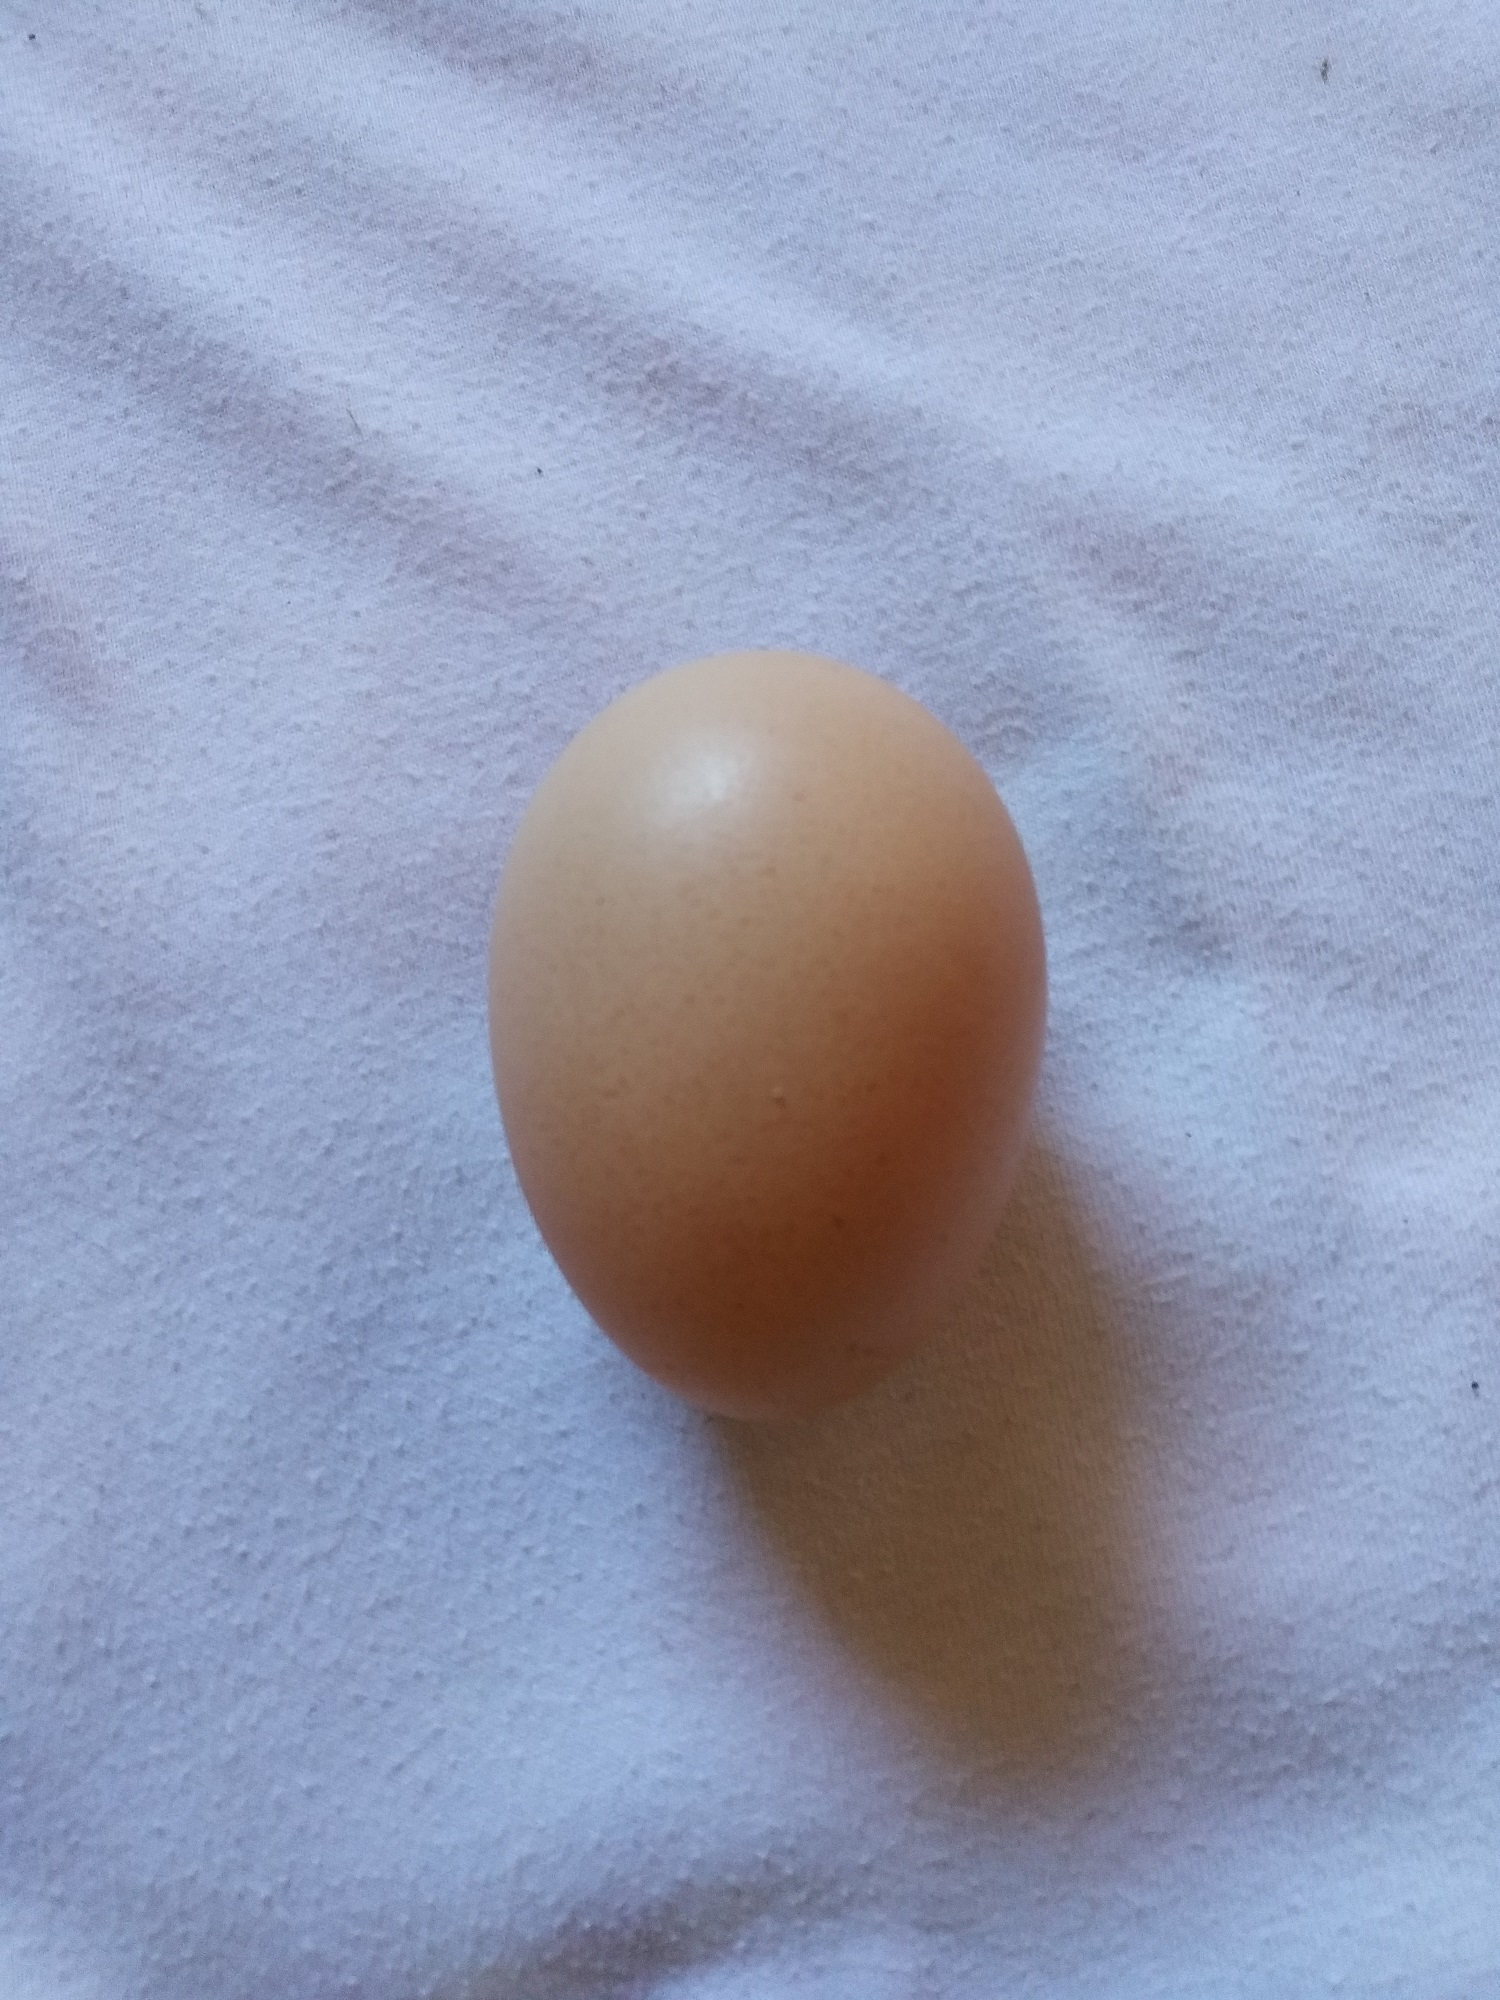Female: (477, 638, 1053, 1435)
